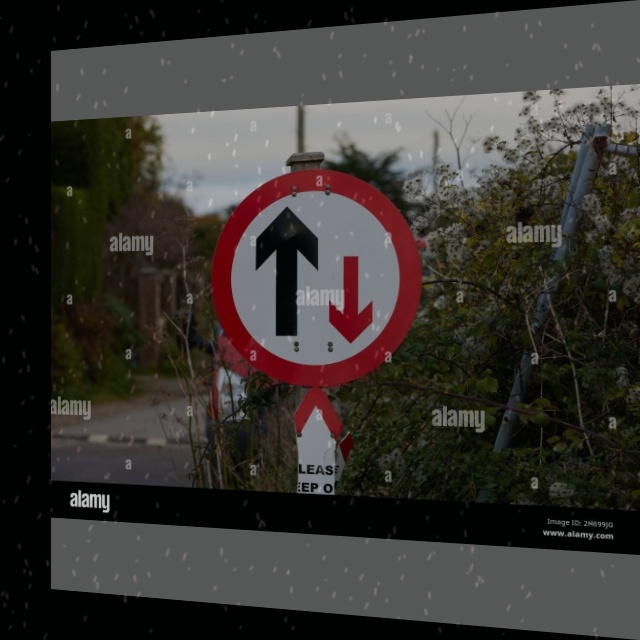Priority_for_Oncoming_Traffic: (212, 163, 422, 389)
